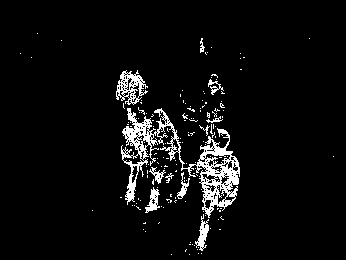person: (203, 127, 239, 253), (145, 104, 181, 216), (121, 108, 148, 206), (117, 65, 146, 119), (205, 73, 225, 141)
